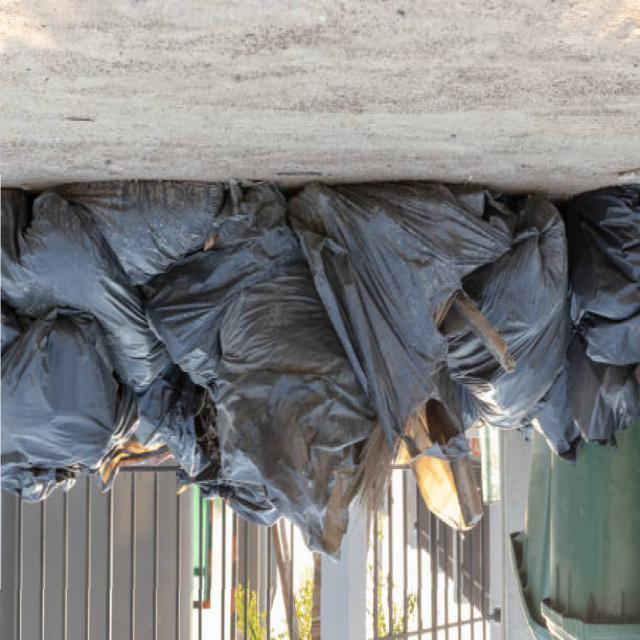Trashbag: (311, 202, 475, 398), (7, 195, 164, 388), (216, 362, 367, 556), (462, 186, 569, 429), (147, 254, 280, 386), (5, 348, 121, 497), (575, 188, 639, 374), (137, 373, 223, 495)
